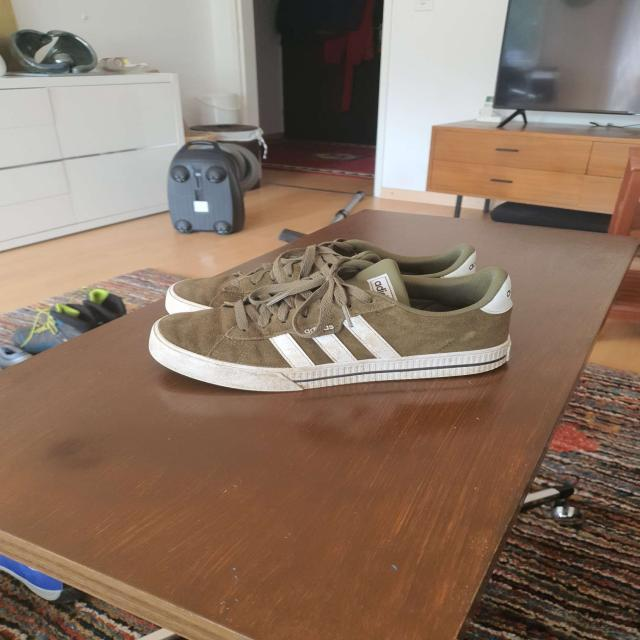shoe: (147, 267, 514, 394)
